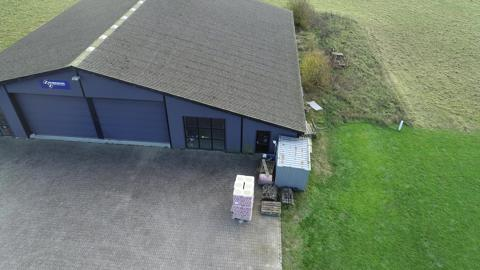RockwoolPallet: (230, 173, 253, 219)
